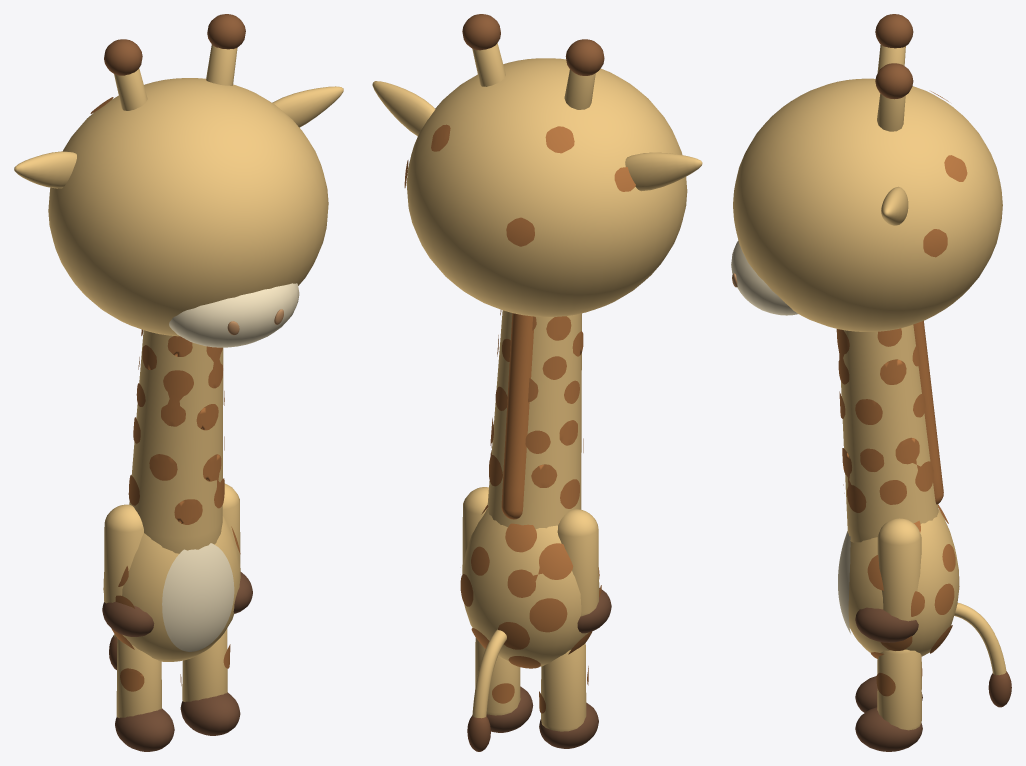
Rendered from animal-giraffe.glb.
3 views of the same model, side by side, from view 1: azimuth 30°, elevation 25°; view 2: azimuth 150°, elevation 25°; view 3: azimuth 270°, elevation 25° (orthographic). The views are drawn at different scales.
Visible parts, largest first — view 1: head, neck, belly, spots_neck, torso, muzzle, arm_R, leg_R, leg_L, foot_L, foot_R, ear_R (+7 smaller); view 2: head, neck, torso, spots, mane, spots_neck, leg_R, arm_R, spots_head, ear_R, ear_L, leg_L (+10 smaller); view 3: head, neck, torso, spots_neck, arm_L, leg_L, spots, mane, foot_L, muzzle, hand_L, tail (+9 smaller).
Boxes of the visible parts, bbox=[...] form: head: bbox=[48, 78, 328, 336]; neck: bbox=[129, 330, 223, 553]; belly: bbox=[162, 543, 234, 651]; spots_neck: bbox=[128, 329, 224, 524]; torso: bbox=[103, 516, 240, 661]; muzzle: bbox=[169, 283, 299, 347]; arm_R: bbox=[104, 504, 143, 603]; leg_R: bbox=[116, 638, 161, 717]; leg_L: bbox=[182, 628, 227, 701]; foot_L: bbox=[180, 692, 240, 735]; foot_R: bbox=[115, 708, 174, 751]; ear_R: bbox=[14, 151, 76, 188]; head: bbox=[406, 58, 687, 316]; neck: bbox=[487, 310, 581, 529]; torso: bbox=[462, 509, 599, 666]; spots: bbox=[460, 505, 601, 668]; mane: bbox=[501, 313, 533, 519]; spots_neck: bbox=[489, 310, 583, 508]; leg_R: bbox=[541, 643, 586, 731]; arm_R: bbox=[557, 509, 598, 616]; spots_head: bbox=[404, 124, 635, 246]; ear_R: bbox=[625, 152, 702, 191]; ear_L: bbox=[372, 81, 435, 136]; leg_L: bbox=[475, 637, 520, 715]; head: bbox=[733, 78, 1002, 331]; neck: bbox=[841, 324, 938, 542]; torso: bbox=[848, 509, 959, 656]; spots_neck: bbox=[836, 328, 933, 512]; arm_L: bbox=[877, 518, 921, 621]; leg_L: bbox=[877, 649, 921, 730]; spots: bbox=[867, 504, 955, 658]; mane: bbox=[913, 320, 943, 504]; foot_L: bbox=[855, 707, 922, 751]; muzzle: bbox=[731, 241, 798, 315]; hand_L: bbox=[855, 607, 918, 642]; tail: bbox=[954, 603, 1006, 675].
Size of the model in its own units: 0.701 by 1.44 by 0.5304.
